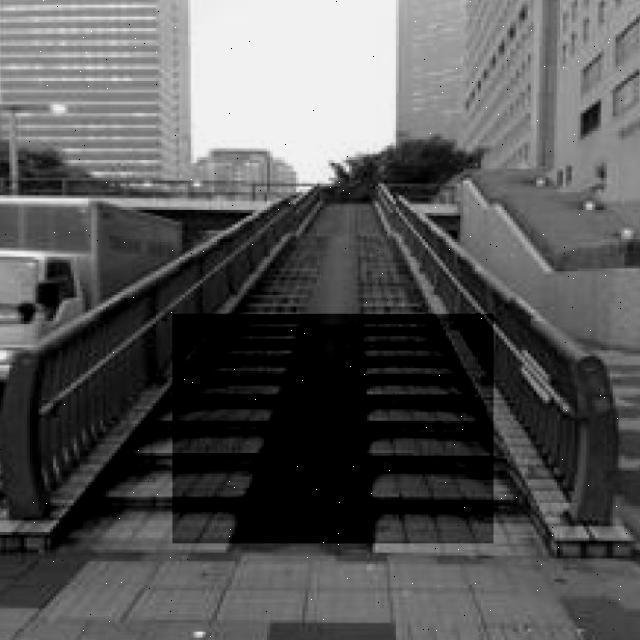stair: (172, 314, 494, 543)
